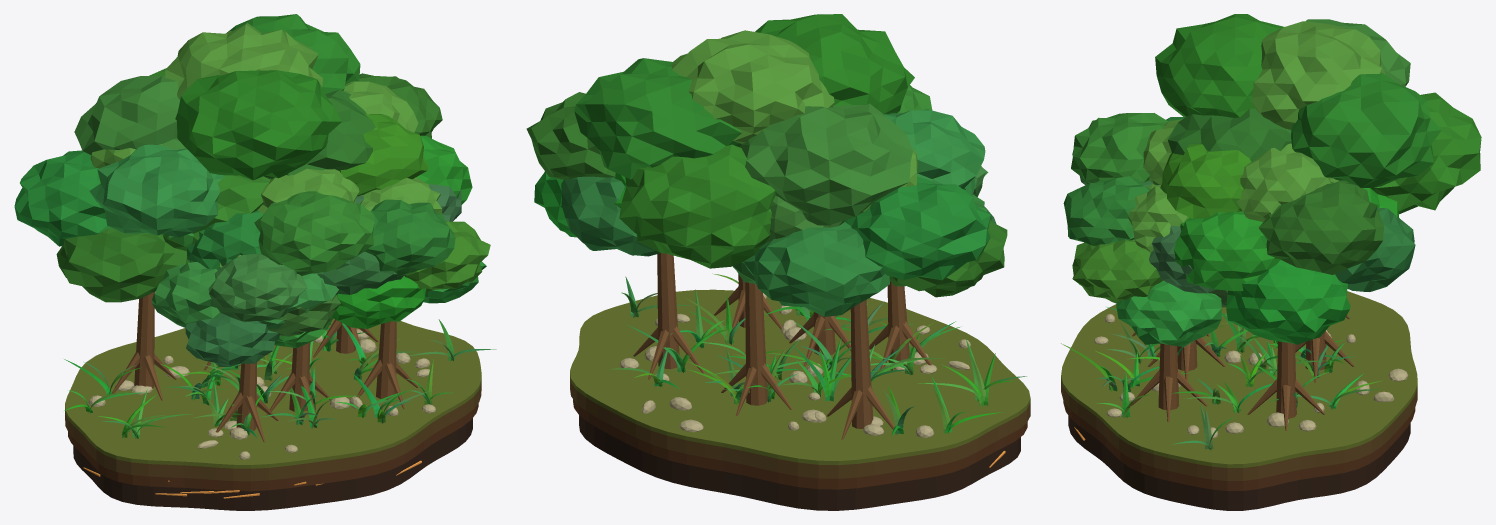
Rendered from forest.glb.
3 views of the same model, side by side, from view 1: azimuth 30°, elevation 25°; view 2: azimuth 150°, elevation 25°; view 3: azimuth 270°, elevation 25° (orthographic). The views are drawn at different scales.
Parts seen in each view (by area): view 1: forest habitat; view 2: forest habitat; view 3: forest habitat.
Boxes of the visible parts, x1=… form: forest habitat: x1=14, y1=14, x2=496, y2=510; forest habitat: x1=526, y1=14, x2=1030, y2=510; forest habitat: x1=1061, y1=14, x2=1481, y2=510.
Bounding box in the file's own units: 1.8 × 1.53 × 1.51.
Materials: 1 (1 with a texture image).
